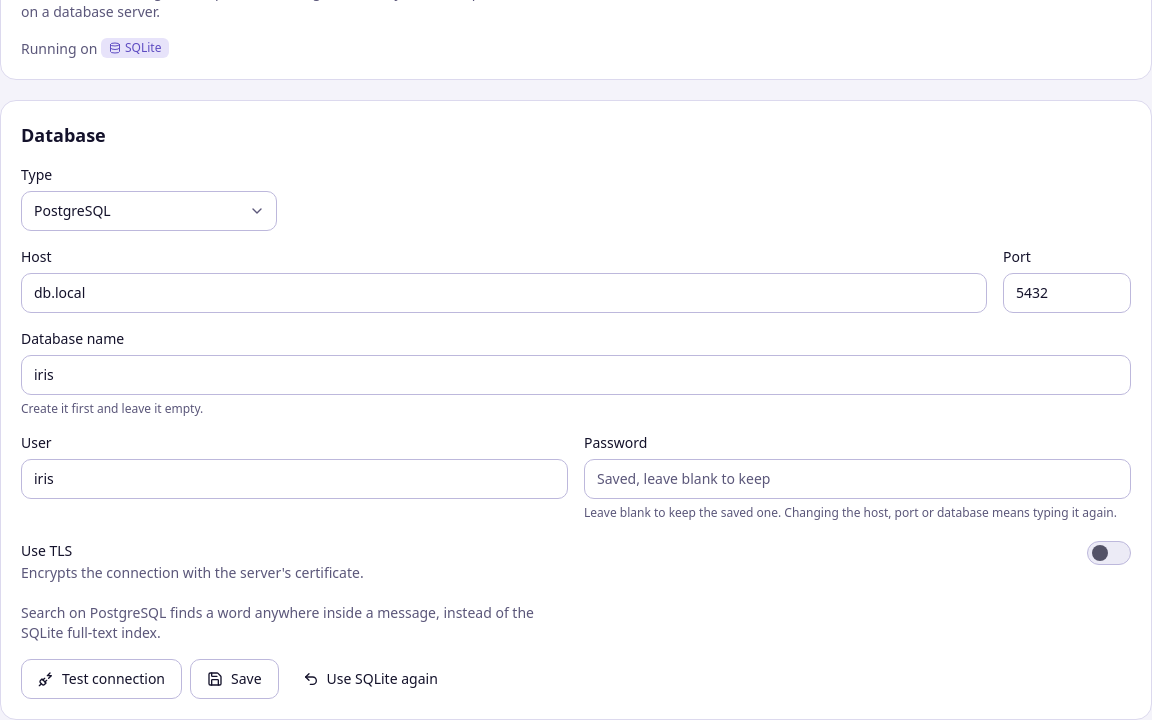
Scenario: a failed test says why
The image size is (1152, 720).
(page scrolled)
What coordinates should you click on to do the following:
click the button "Test connection"
I would click on:
 (102, 679)
Its box is [21,659,182,699].
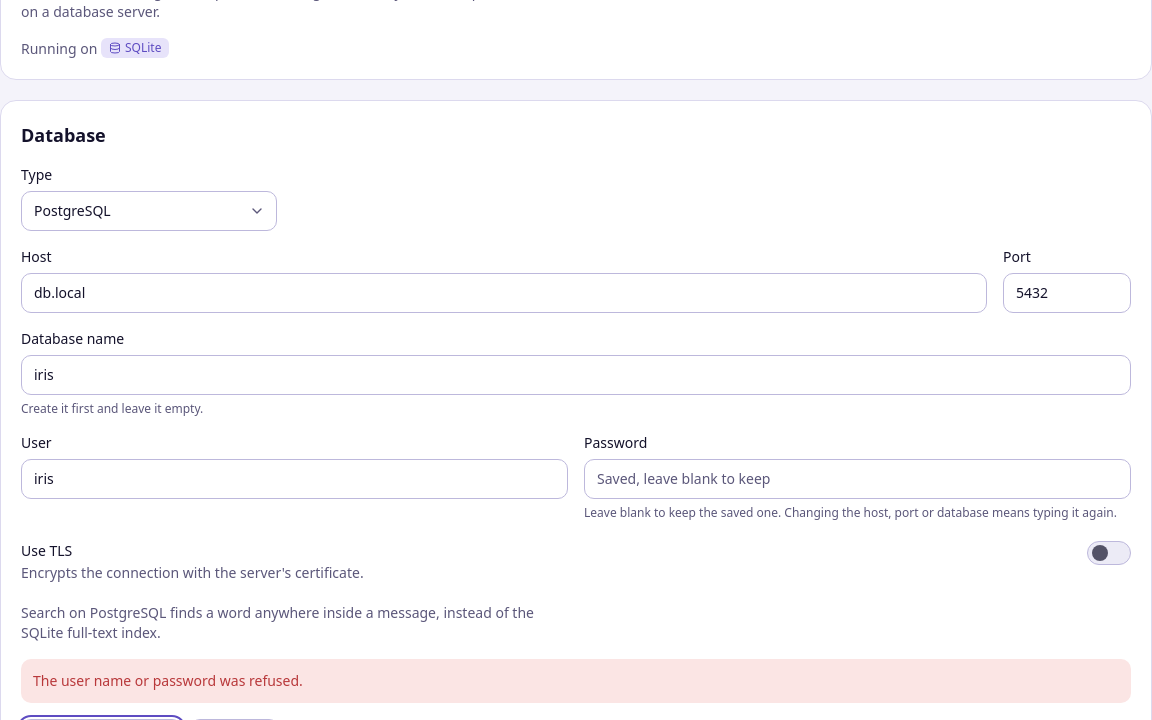
expect the text "The user name or password was refused." is shown: met, box [33,671,303,690]
